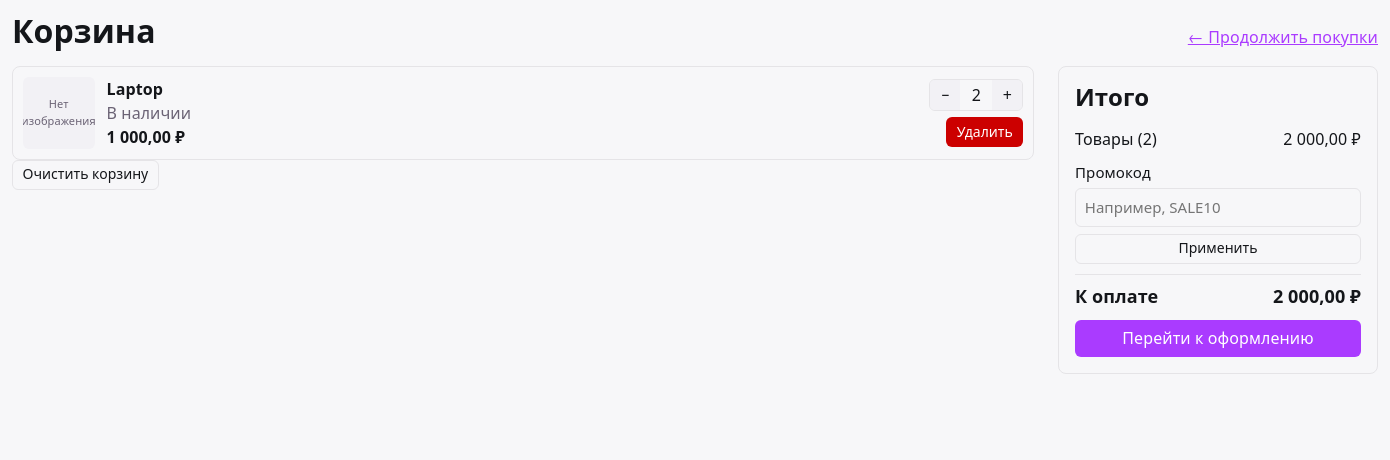
it: CartPage › промокод: успешное применение показывает превью
The image size is (1390, 460).
Type "  SALE10  " into the field labelled "Промокод" at (1218, 208), box [1075,188,1361,227]
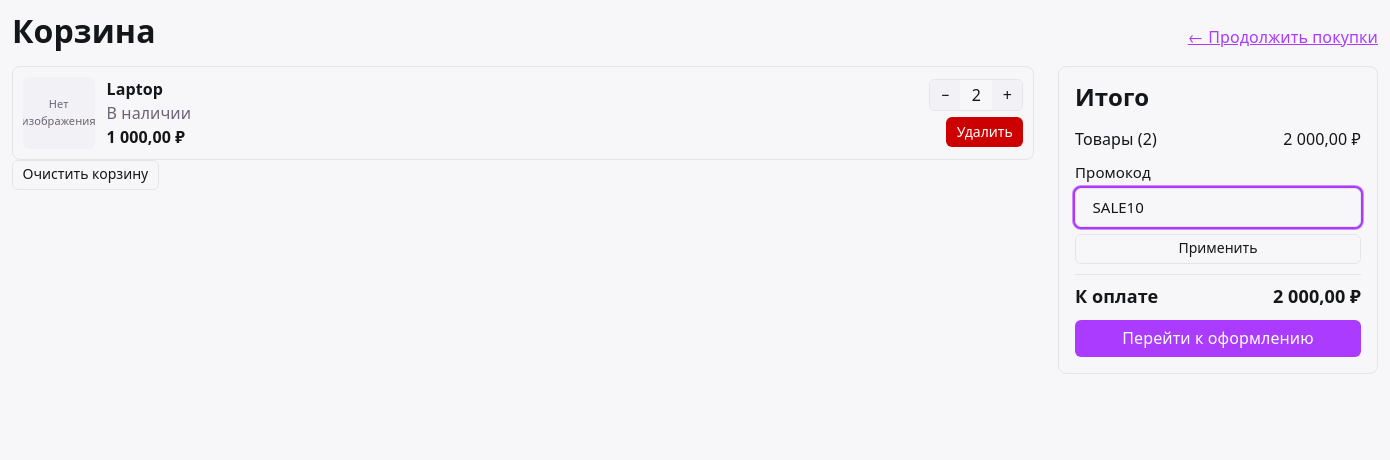
Click the button "Применить" at (1218, 248), box [1075,234,1361,264]
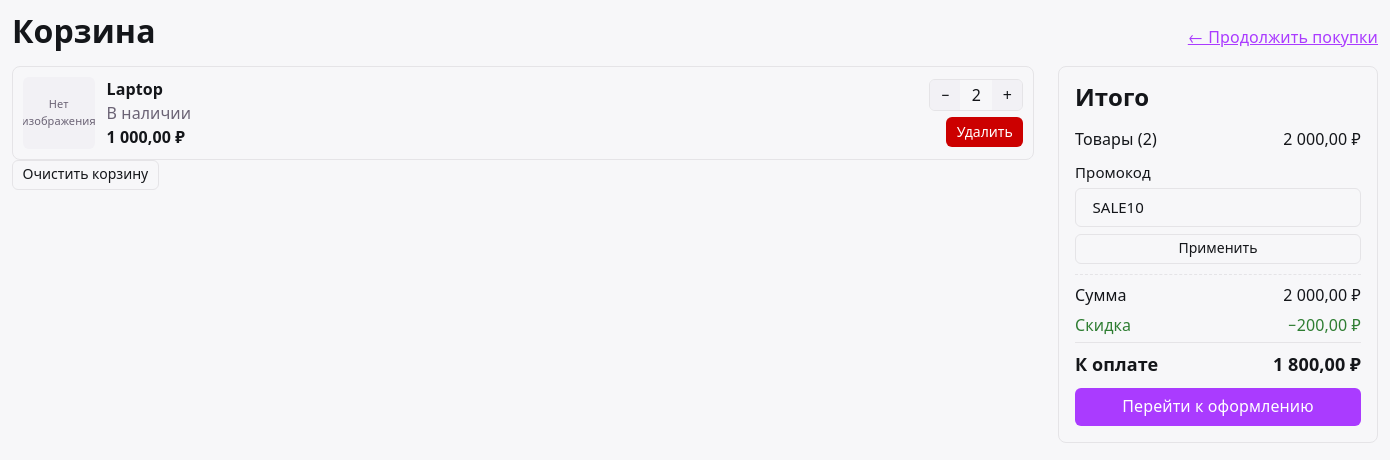
Expected: the text "Скидка" is shown, [1075,312,1131,336]
Expected: the text "К оплате 1 800,00 ₽" is shown, [1075,342,1361,378]
